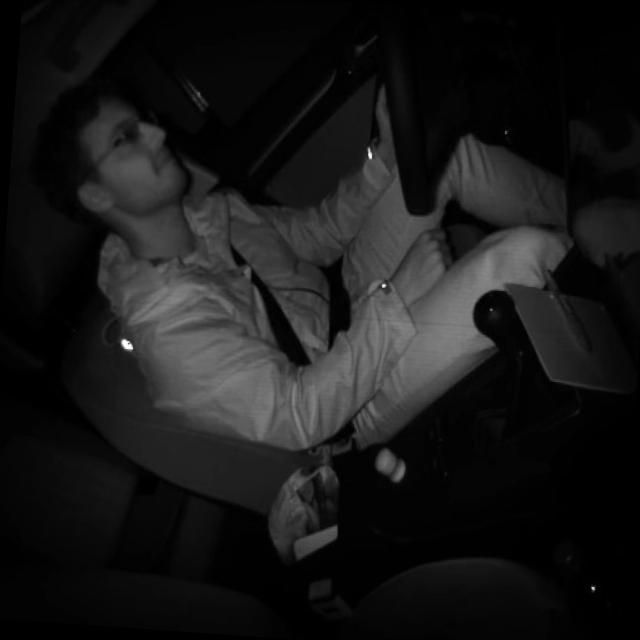pen: (535, 262, 603, 358)
